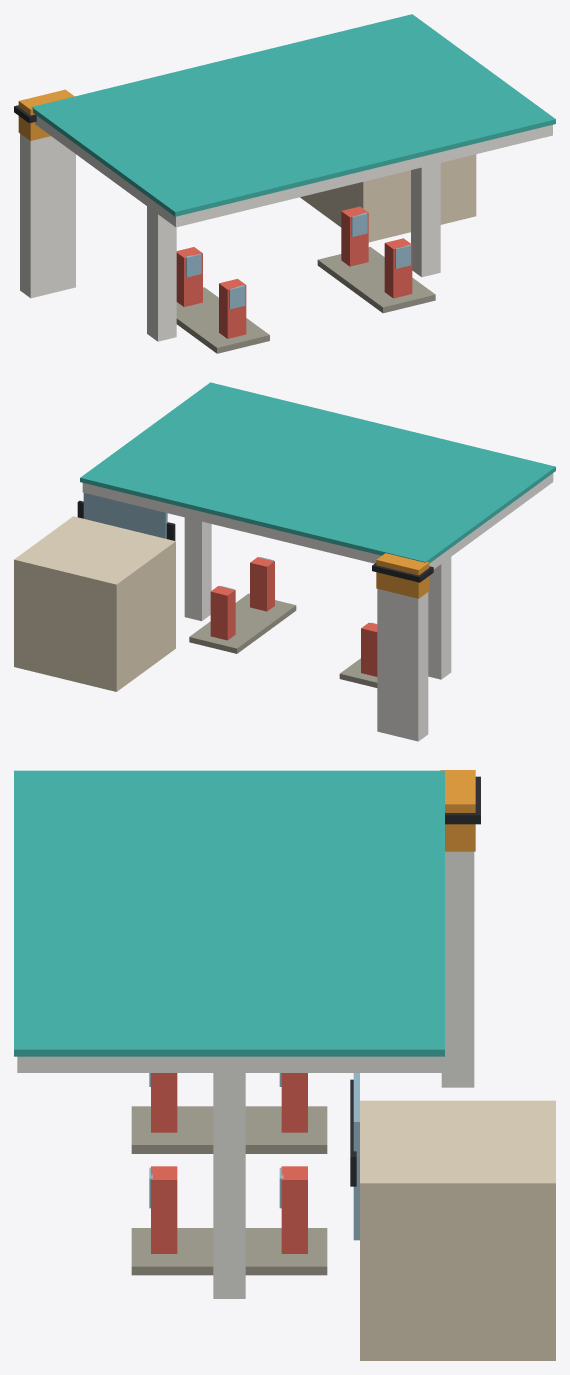
The model's file is building.fuel-station.glb.
The picture shows the model from 3 angles, top to bottom: view 1: azimuth 30°, elevation 25°; view 2: azimuth 150°, elevation 25°; view 3: azimuth 270°, elevation 25°; orthographic projection. The views are drawn at different scales.
Parts seen in each view (by area): view 1: building.fuel-station; view 2: building.fuel-station; view 3: building.fuel-station.
Part boxes in pixels (x1,y1,x2,y2): building.fuel-station: (14, 14, 555, 353); building.fuel-station: (14, 382, 555, 741); building.fuel-station: (14, 770, 555, 1360).
Size of the model in its own units: 11.2 by 4.82 by 8.3.
